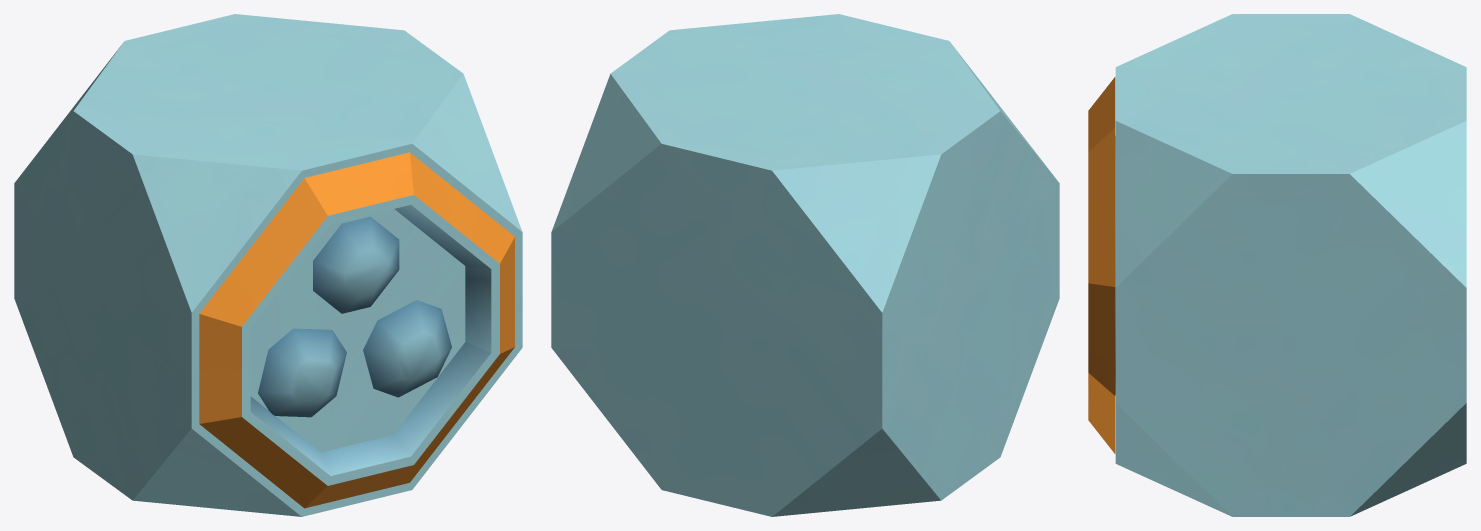
Rendered from Shield 2.fbx.
3 views of the same model, side by side, from view 1: azimuth 30°, elevation 25°; view 2: azimuth 150°, elevation 25°; view 3: azimuth 270°, elevation 25° (orthographic).
Visible parts, largest first — view 1: Shield 1x1.002; view 2: Shield 1x1.002; view 3: Shield 1x1.002.
Part boxes in pixels (x1=…): Shield 1x1.002: x1=14, y1=14, x2=522, y2=516; Shield 1x1.002: x1=551, y1=14, x2=1059, y2=516; Shield 1x1.002: x1=1088, y1=14, x2=1466, y2=516.
Bounding box in the file's own units: 100 × 100 × 100.
